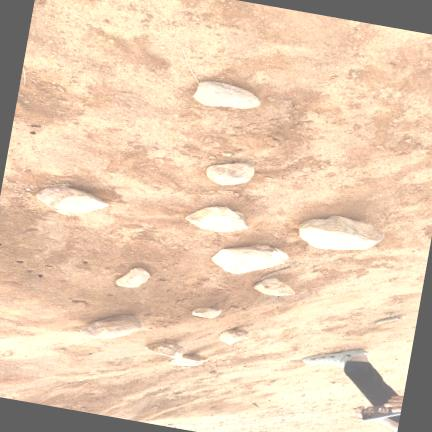Rocks: (298, 215, 383, 249), (211, 244, 287, 273), (36, 185, 107, 214), (193, 80, 259, 108), (185, 205, 247, 231), (81, 314, 140, 338), (206, 162, 254, 184), (253, 277, 293, 295), (115, 267, 149, 286), (145, 340, 182, 357), (219, 328, 248, 343), (168, 354, 207, 365), (192, 306, 220, 317), (220, 150, 233, 158), (348, 69, 358, 77)
